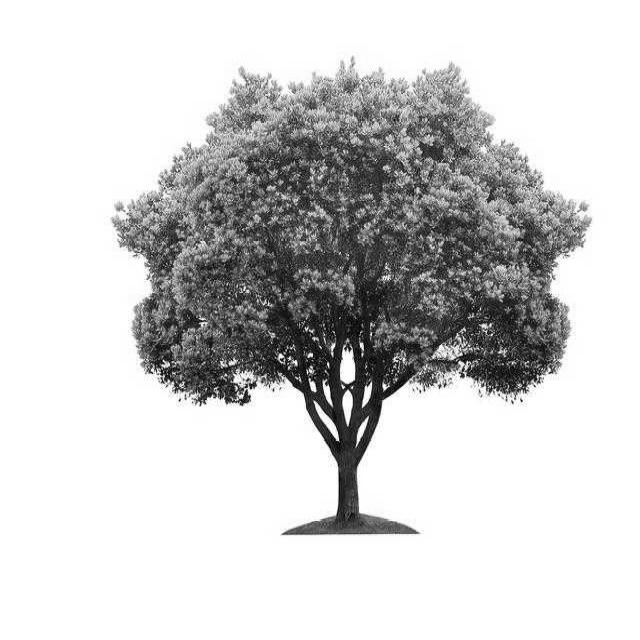Tree: (114, 65, 590, 521)
